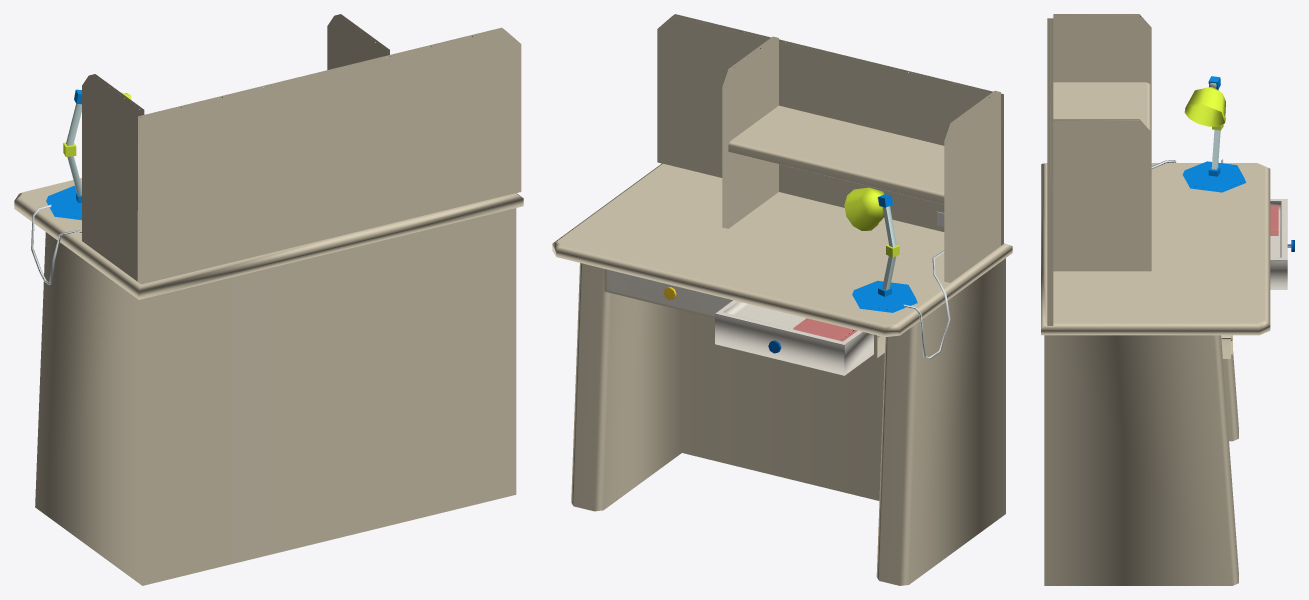
File: Desk.fbx
3 views of the same model, side by side, from view 1: azimuth 30°, elevation 25°; view 2: azimuth 150°, elevation 25°; view 3: azimuth 270°, elevation 25° (orthographic). The views are drawn at different scales.
Parts seen in each view (by area): view 1: Desk; view 2: Desk; view 3: Desk.
Part boxes in pixels (<box>): Desk: <box>14,14,523,585</box>; Desk: <box>552,14,1012,585</box>; Desk: <box>1041,14,1294,585</box>.
Size of the model in its own units: 776 by 883 by 493.
Materials: 2 (2 with a texture image).
